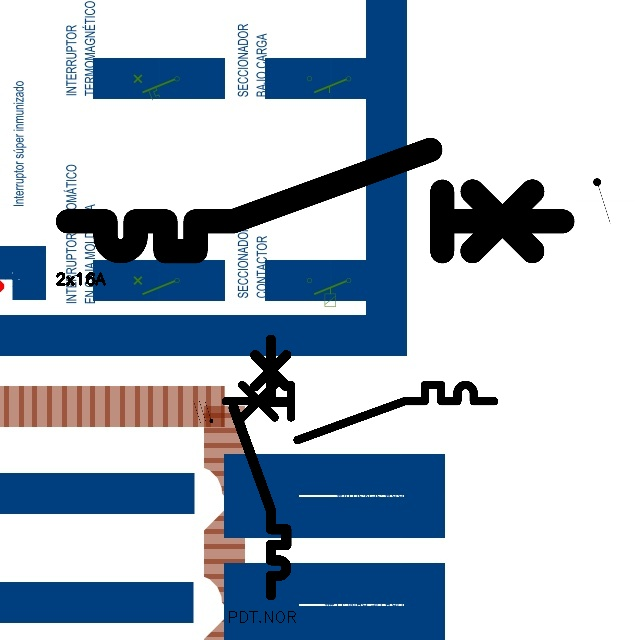interruptor_termomagnetico: (55, 137, 575, 264), (218, 378, 500, 447), (227, 333, 293, 602)
